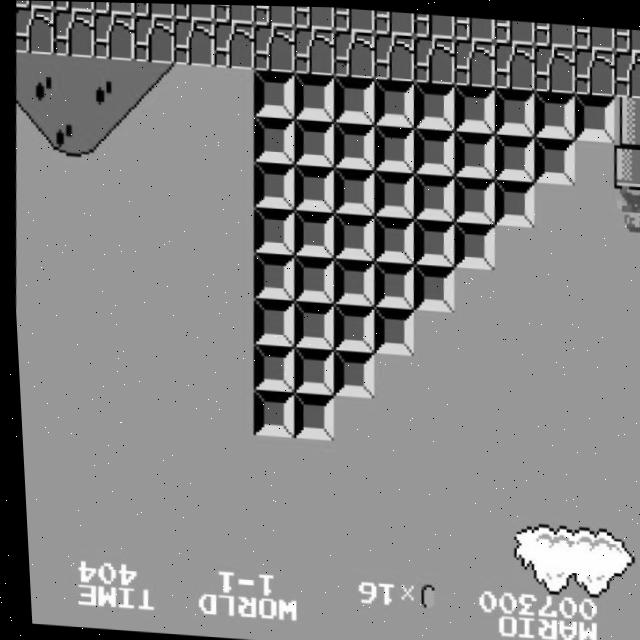11- little_mario: (613, 184, 640, 234)
14- pipe: (610, 94, 640, 142)
15- pipe_head: (610, 140, 640, 188)
17- undestructible_block: (571, 45, 616, 94), (531, 43, 576, 92), (451, 37, 496, 86), (411, 34, 456, 83), (331, 29, 376, 78), (251, 23, 296, 72), (211, 20, 256, 69), (171, 17, 216, 66), (131, 15, 176, 64), (51, 9, 96, 58), (491, 40, 536, 88), (291, 26, 336, 74), (91, 12, 136, 60), (372, 31, 416, 80), (14, 6, 55, 55), (612, 48, 640, 96), (573, 23, 616, 49), (533, 20, 576, 46), (493, 17, 536, 43), (453, 14, 496, 40), (373, 9, 416, 35), (333, 6, 376, 32), (413, 12, 456, 37), (292, 5, 335, 29), (252, 4, 295, 26), (213, 4, 256, 23), (173, 3, 216, 21), (133, 2, 176, 18), (613, 26, 640, 51), (93, 2, 136, 15), (53, 1, 95, 12), (16, 0, 54, 9)
9- hard_block: (571, 91, 616, 140), (531, 88, 576, 137), (490, 131, 535, 180), (450, 128, 495, 177), (451, 83, 496, 132), (409, 216, 454, 265), (411, 80, 456, 129), (368, 305, 413, 354), (369, 214, 414, 263), (370, 123, 415, 172), (371, 77, 416, 126), (327, 348, 372, 397), (329, 211, 374, 260), (331, 74, 376, 123), (287, 345, 332, 394), (288, 300, 333, 349), (289, 208, 334, 257), (290, 117, 335, 166), (247, 342, 292, 391), (250, 114, 295, 163), (251, 69, 296, 118), (531, 134, 576, 182), (490, 177, 535, 225), (491, 86, 536, 134), (449, 220, 494, 268), (408, 263, 453, 311), (410, 172, 455, 220), (410, 126, 455, 174), (369, 260, 414, 308), (370, 169, 415, 217), (328, 303, 373, 351), (330, 120, 375, 168), (287, 391, 332, 439), (289, 255, 334, 303), (289, 163, 334, 211), (291, 72, 336, 120), (248, 297, 293, 345), (249, 252, 294, 300), (249, 206, 294, 254), (250, 161, 295, 209), (450, 175, 495, 222), (329, 258, 374, 305), (247, 389, 292, 436), (330, 166, 374, 214)
